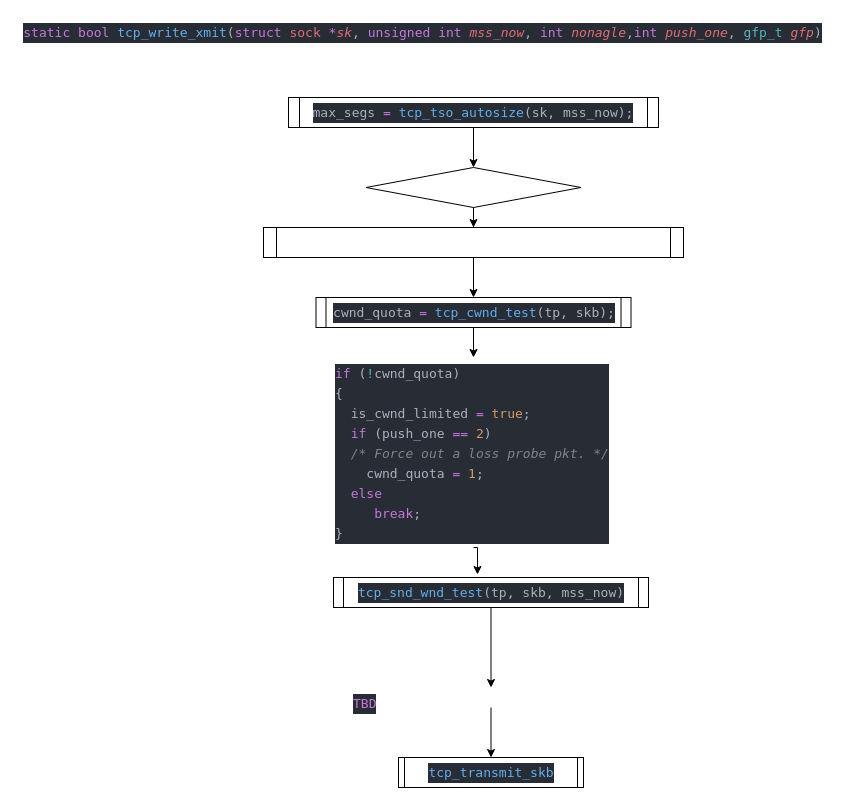
Some shapes in this 844 by 805 pixel diagram are drawn without their labels. The shapes that lost their labels are listed below. From the top down, each one's centre as x and y in pixels, then its label:
At (x=473, y=187): "skb = tcp_send_head (sk)".
At (x=473, y=242): "tso_segs = tcp_init_tso_segs (sk, skb, mss_now);".
